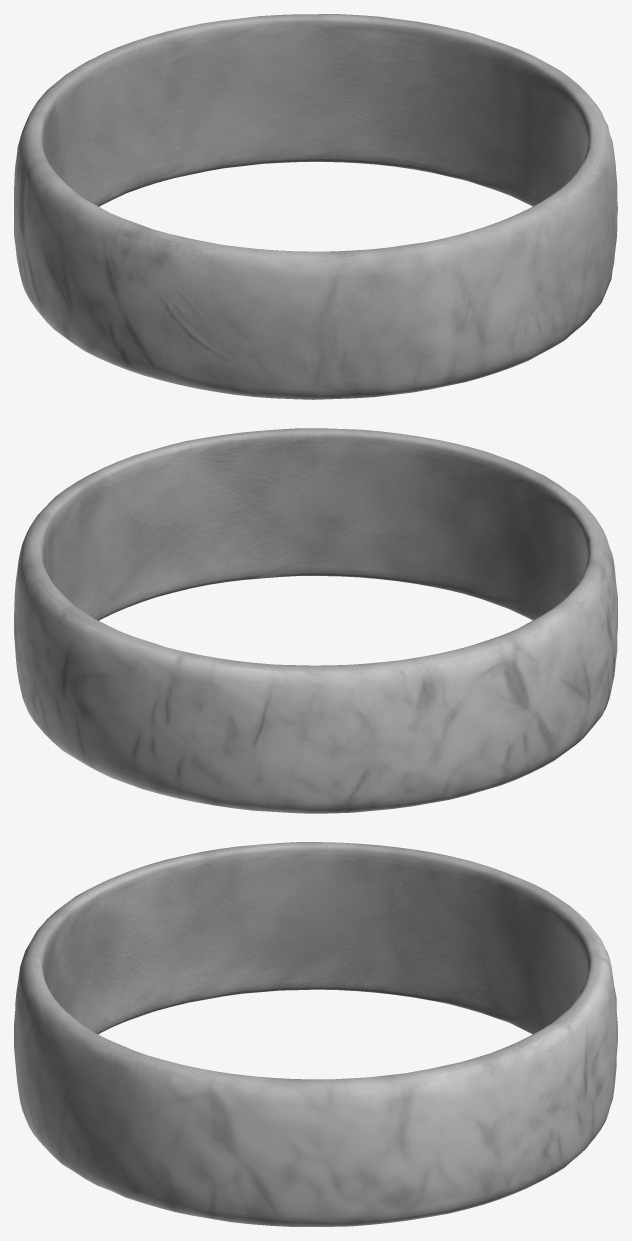
File: Meshy_AI_Dusty_Metal_Ring_0313130026_texture.fbx
3 renders of one model, top to bottom at view 1: azimuth 30°, elevation 25°; view 2: azimuth 150°, elevation 25°; view 3: azimuth 270°, elevation 25°, orthographic.
Parts seen in each view (by area): view 1: Mesh_0; view 2: Mesh_0; view 3: Mesh_0.
Boxes of the visible parts, bbox=[...] form: Mesh_0: bbox=[14, 14, 617, 399]; Mesh_0: bbox=[14, 428, 617, 813]; Mesh_0: bbox=[14, 842, 617, 1226].
Bounding box in the file's own units: 191 × 50.49 × 191.
Materials: 1 (1 with a texture image).
